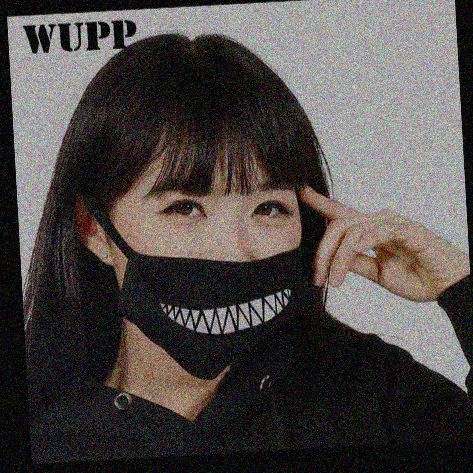with_mask: (111, 174, 308, 375)
